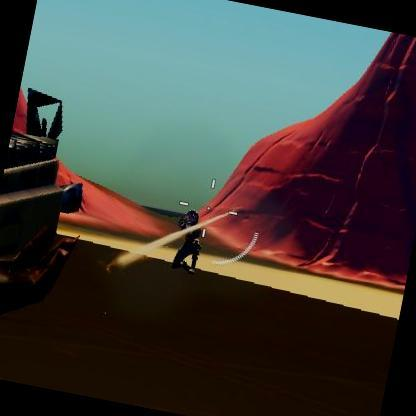person: (170, 228, 205, 274), (179, 209, 200, 230)
